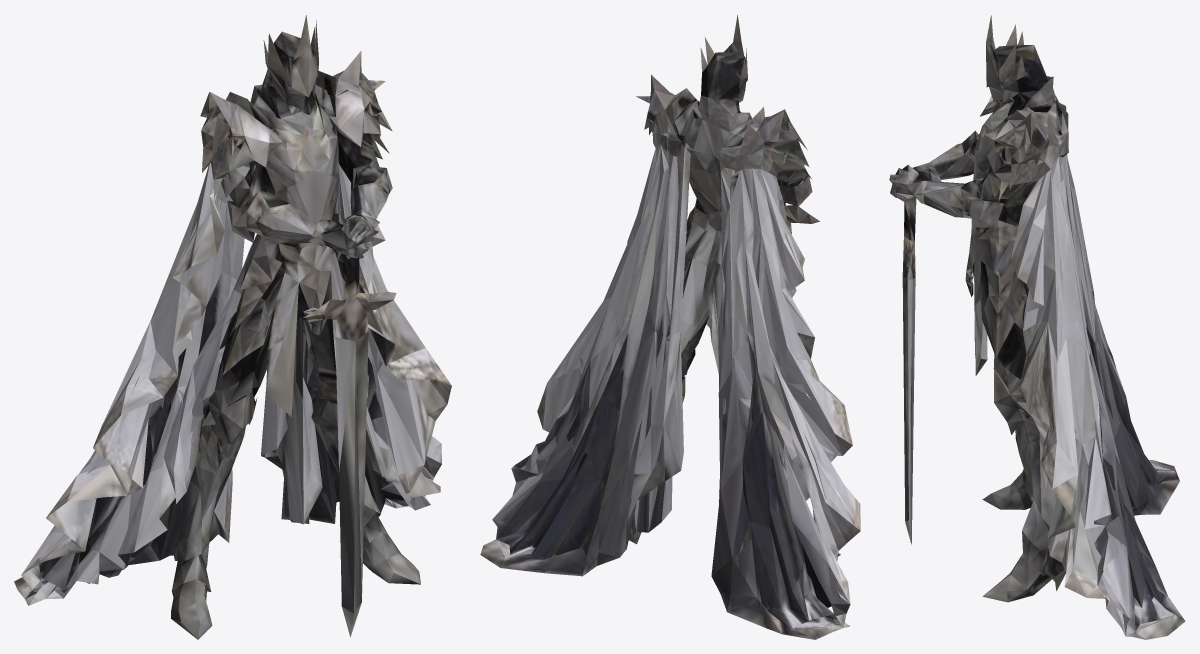
File: aurencast.glb
3 renders of one model, left to right at view 1: azimuth 30°, elevation 25°; view 2: azimuth 150°, elevation 25°; view 3: azimuth 270°, elevation 25°, orthographic. The views are drawn at different scales.
Parts seen in each view (by area): view 1: avatar; view 2: avatar; view 3: avatar.
Part boxes in pixels (box(x1,y1,x2,y2)): avatar: box(14, 15, 451, 639); avatar: box(480, 15, 860, 639); avatar: box(889, 15, 1185, 639).
Bounding box in the file's own units: 0.7207 × 1 × 0.4982.
Materials: 1 (1 with a texture image).
